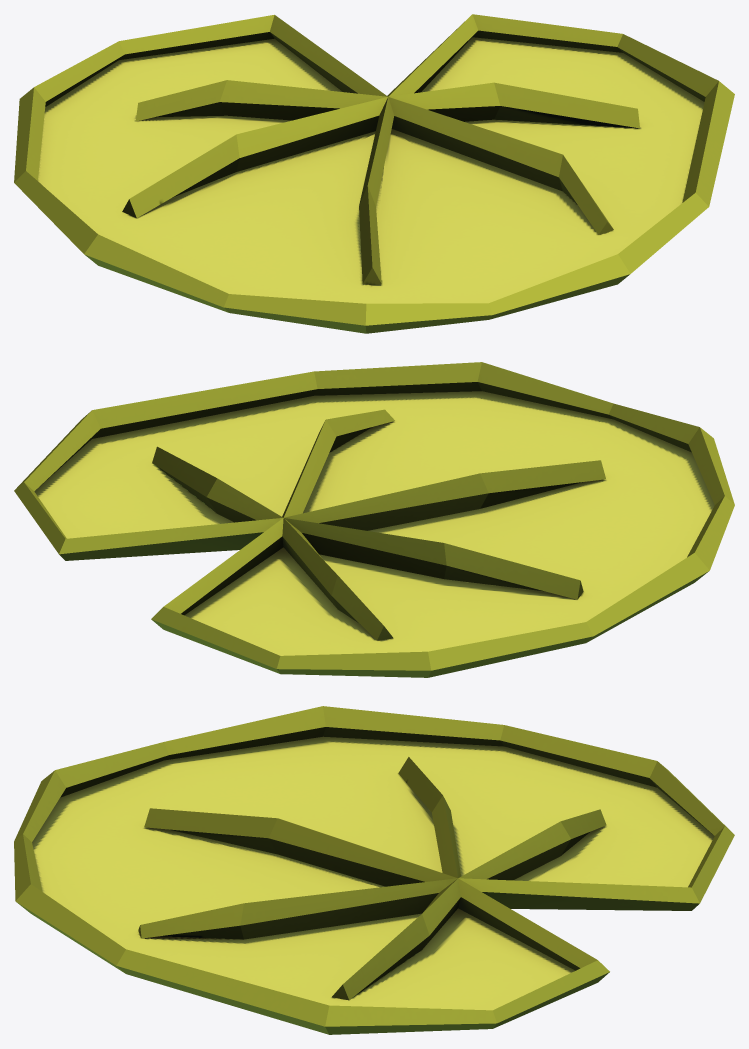
Rendered from Lilypad.glb.
3 views of the same model, one above another, from view 1: azimuth 30°, elevation 25°; view 2: azimuth 150°, elevation 25°; view 3: azimuth 270°, elevation 25° (orthographic). The views are drawn at different scales.
Visible parts, largest first — view 1: lily_pad; view 2: lily_pad; view 3: lily_pad.
Part boxes in pixels (bbox=[...]): lily_pad: bbox=[14, 14, 734, 333]; lily_pad: bbox=[14, 362, 734, 677]; lily_pad: bbox=[14, 706, 734, 1034].
Bounding box in the file's own units: 1.59 × 0.0879 × 1.56.
1 material, 1 textured.
